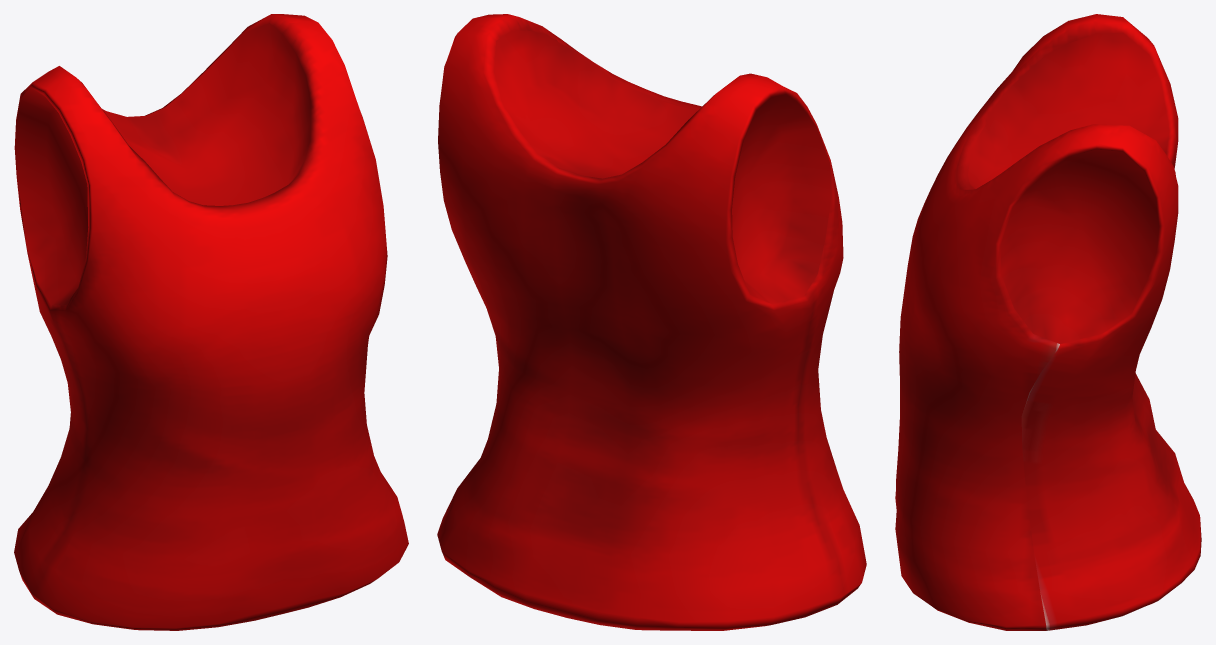
File: Top_TankTop.obj
The picture shows the model from 3 angles, left to right: view 1: azimuth 30°, elevation 25°; view 2: azimuth 150°, elevation 25°; view 3: azimuth 270°, elevation 25°; orthographic projection. The views are drawn at different scales.
Visible parts, largest first — view 1: Top_TankTop_0; view 2: Top_TankTop_0; view 3: Top_TankTop_0.
Boxes of the visible parts, left/top/right/bottom form: Top_TankTop_0: left=14, top=14, right=408, bottom=630; Top_TankTop_0: left=437, top=14, right=866, bottom=630; Top_TankTop_0: left=895, top=14, right=1201, bottom=630.
Size of the model in its own units: 0.3258 by 0.4339 by 0.2497.
Materials: 1 (1 with a texture image).
